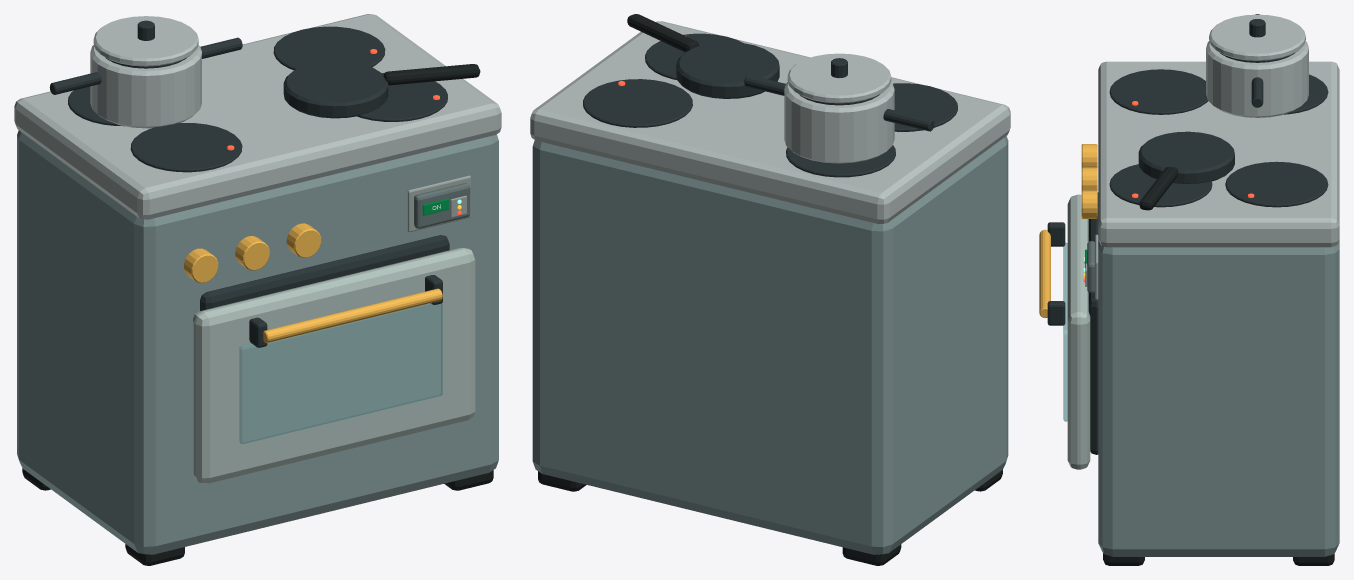
File: 01_industrial_range_oven_1p2x0p75x1p25m.glb
3 renders of one model, left to right at view 1: azimuth 30°, elevation 25°; view 2: azimuth 150°, elevation 25°; view 3: azimuth 270°, elevation 25°, orthographic. The views are drawn at different scales.
Parts seen in each view (by area): view 1: RANGE_Armored_Body, RANGE_Oven_Door_Frame, RANGE_Stainless_Top, RANGE_Oven_Door_Glass, RANGE_Stockpot_Pot_Body, RANGE_Frying_Pan_Pan_Bowl, RANGE_Oven_Cavity, RANGE_Induction_Plate_-0.34_-0.18, RANGE_Stockpot_Lid, RANGE_Induction_Plate_0.34_0.18, RANGE_Oven_Handle_Grip, RANGE_Induction_Plate_0.34_-0.18 (+9 smaller); view 2: RANGE_Armored_Body, RANGE_Stainless_Top, RANGE_Stockpot_Pot_Body, RANGE_Frying_Pan_Pan_Bowl, RANGE_Induction_Plate_0.34_0.18, RANGE_Stockpot_Lid, RANGE_Induction_Plate_-0.34_-0.18, RANGE_Induction_Plate_-0.34_0.18, RANGE_Induction_Plate_0.34_-0.18, RANGE_Frying_Pan_Long_Handle, RANGE_Stockpot_Side_Handle_-1, RANGE_Foot_-1_1; view 3: RANGE_Armored_Body, RANGE_Stainless_Top, RANGE_Oven_Door_Frame, RANGE_Stockpot_Pot_Body, RANGE_Frying_Pan_Pan_Bowl, RANGE_Induction_Plate_0.34_0.18, RANGE_Induction_Plate_-0.34_-0.18, RANGE_Stockpot_Lid, RANGE_Induction_Plate_0.34_-0.18, RANGE_Oven_Cavity, RANGE_Oven_Handle_Grip, RANGE_Oven_Door_Glass (+8 smaller).
Boxes of the visible parts, left/top/right/bottom form: RANGE_Armored_Body: left=17, top=130, right=498, bottom=554; RANGE_Oven_Door_Frame: left=193, top=248, right=475, bottom=483; RANGE_Stainless_Top: left=14, top=14, right=501, bottom=219; RANGE_Oven_Door_Glass: left=239, top=303, right=442, bottom=443; RANGE_Stockpot_Pot_Body: left=90, top=45, right=201, bottom=128; RANGE_Frying_Pan_Pan_Bowl: left=283, top=60, right=388, bottom=118; RANGE_Oven_Cavity: left=200, top=235, right=449, bottom=310; RANGE_Induction_Plate_-0.34_-0.18: left=130, top=123, right=242, bottom=172; RANGE_Stockpot_Lid: left=93, top=16, right=198, bottom=66; RANGE_Induction_Plate_0.34_0.18: left=273, top=26, right=385, bottom=70; RANGE_Oven_Handle_Grip: left=263, top=288, right=442, bottom=342; RANGE_Induction_Plate_0.34_-0.18: left=357, top=73, right=447, bottom=121; RANGE_Armored_Body: left=532, top=136, right=1008, bottom=554; RANGE_Stainless_Top: left=530, top=21, right=1010, bottom=224; RANGE_Stockpot_Pot_Body: left=784, top=82, right=894, bottom=163; RANGE_Frying_Pan_Pan_Bowl: left=676, top=42, right=779, bottom=98; RANGE_Induction_Plate_0.34_0.18: left=583, top=79, right=692, bottom=127; RANGE_Stockpot_Lid: left=787, top=53, right=891, bottom=103; RANGE_Induction_Plate_-0.34_-0.18: left=893, top=83, right=957, bottom=131; RANGE_Induction_Plate_-0.34_0.18: left=786, top=145, right=895, bottom=177; RANGE_Induction_Plate_0.34_-0.18: left=645, top=33, right=742, bottom=79; RANGE_Frying_Pan_Long_Handle: left=627, top=14, right=699, bottom=52; RANGE_Stockpot_Side_Handle_-1: left=883, top=109, right=934, bottom=131; RANGE_Foot_-1_1: left=842, top=544, right=901, bottom=565; RANGE_Armored_Body: left=1098, top=240, right=1339, bottom=556; RANGE_Stainless_Top: left=1098, top=61, right=1339, bottom=247; RANGE_Oven_Door_Frame: left=1067, top=194, right=1090, bottom=469; RANGE_Stockpot_Pot_Body: left=1206, top=41, right=1308, bottom=117; RANGE_Frying_Pan_Pan_Bowl: left=1138, top=131, right=1234, bottom=183; RANGE_Induction_Plate_0.34_0.18: left=1225, top=161, right=1328, bottom=207; RANGE_Induction_Plate_-0.34_-0.18: left=1109, top=69, right=1207, bottom=114; RANGE_Stockpot_Lid: left=1209, top=14, right=1305, bottom=60; RANGE_Induction_Plate_0.34_-0.18: left=1109, top=164, right=1212, bottom=207; RANGE_Oven_Cavity: left=1088, top=192, right=1098, bottom=454; RANGE_Oven_Handle_Grip: left=1039, top=229, right=1050, bottom=317; RANGE_Oven_Door_Glass: left=1063, top=243, right=1067, bottom=421.
Bounding box in the file's own units: 1.21 × 1.47 × 0.933.
